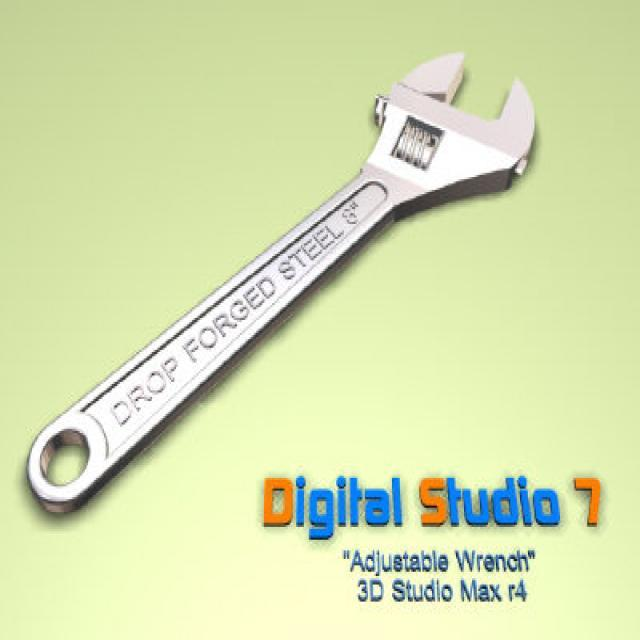wrench: (21, 42, 539, 521)
